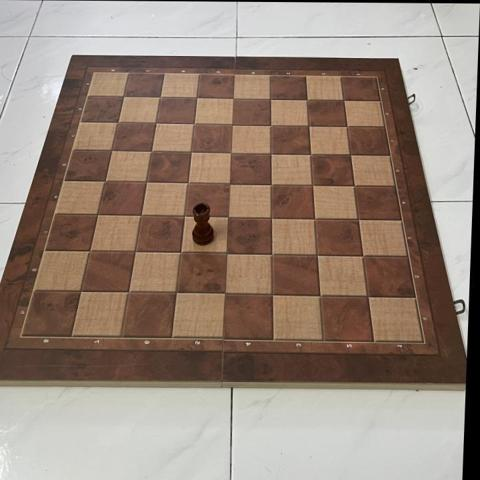xcorner: (189, 90, 206, 107), (262, 91, 279, 108), (299, 92, 316, 109), (110, 115, 127, 132), (186, 116, 203, 133), (224, 117, 241, 134), (262, 117, 279, 134), (183, 144, 200, 161), (223, 145, 240, 162), (302, 146, 319, 163), (342, 147, 359, 164), (138, 174, 155, 191), (304, 177, 321, 194), (176, 208, 193, 225), (219, 209, 236, 226), (306, 210, 323, 227), (349, 211, 366, 228), (81, 243, 98, 260), (217, 245, 234, 262), (308, 247, 325, 264), (72, 283, 89, 300), (120, 284, 137, 301), (263, 286, 280, 303), (358, 288, 375, 305), (116, 89, 132, 106), (152, 90, 169, 106), (226, 91, 242, 108), (148, 116, 165, 132), (301, 118, 317, 135), (104, 143, 120, 160), (143, 144, 160, 160), (97, 173, 113, 190), (180, 175, 196, 192), (221, 176, 238, 192), (263, 176, 279, 193), (345, 178, 362, 194), (89, 207, 106, 223), (133, 207, 149, 224), (127, 244, 143, 261), (172, 245, 189, 261), (263, 246, 279, 263), (167, 285, 184, 301), (215, 286, 232, 302), (311, 287, 327, 304), (336, 93, 352, 109), (339, 119, 355, 135), (263, 146, 279, 162), (263, 210, 279, 226), (354, 248, 370, 264)
